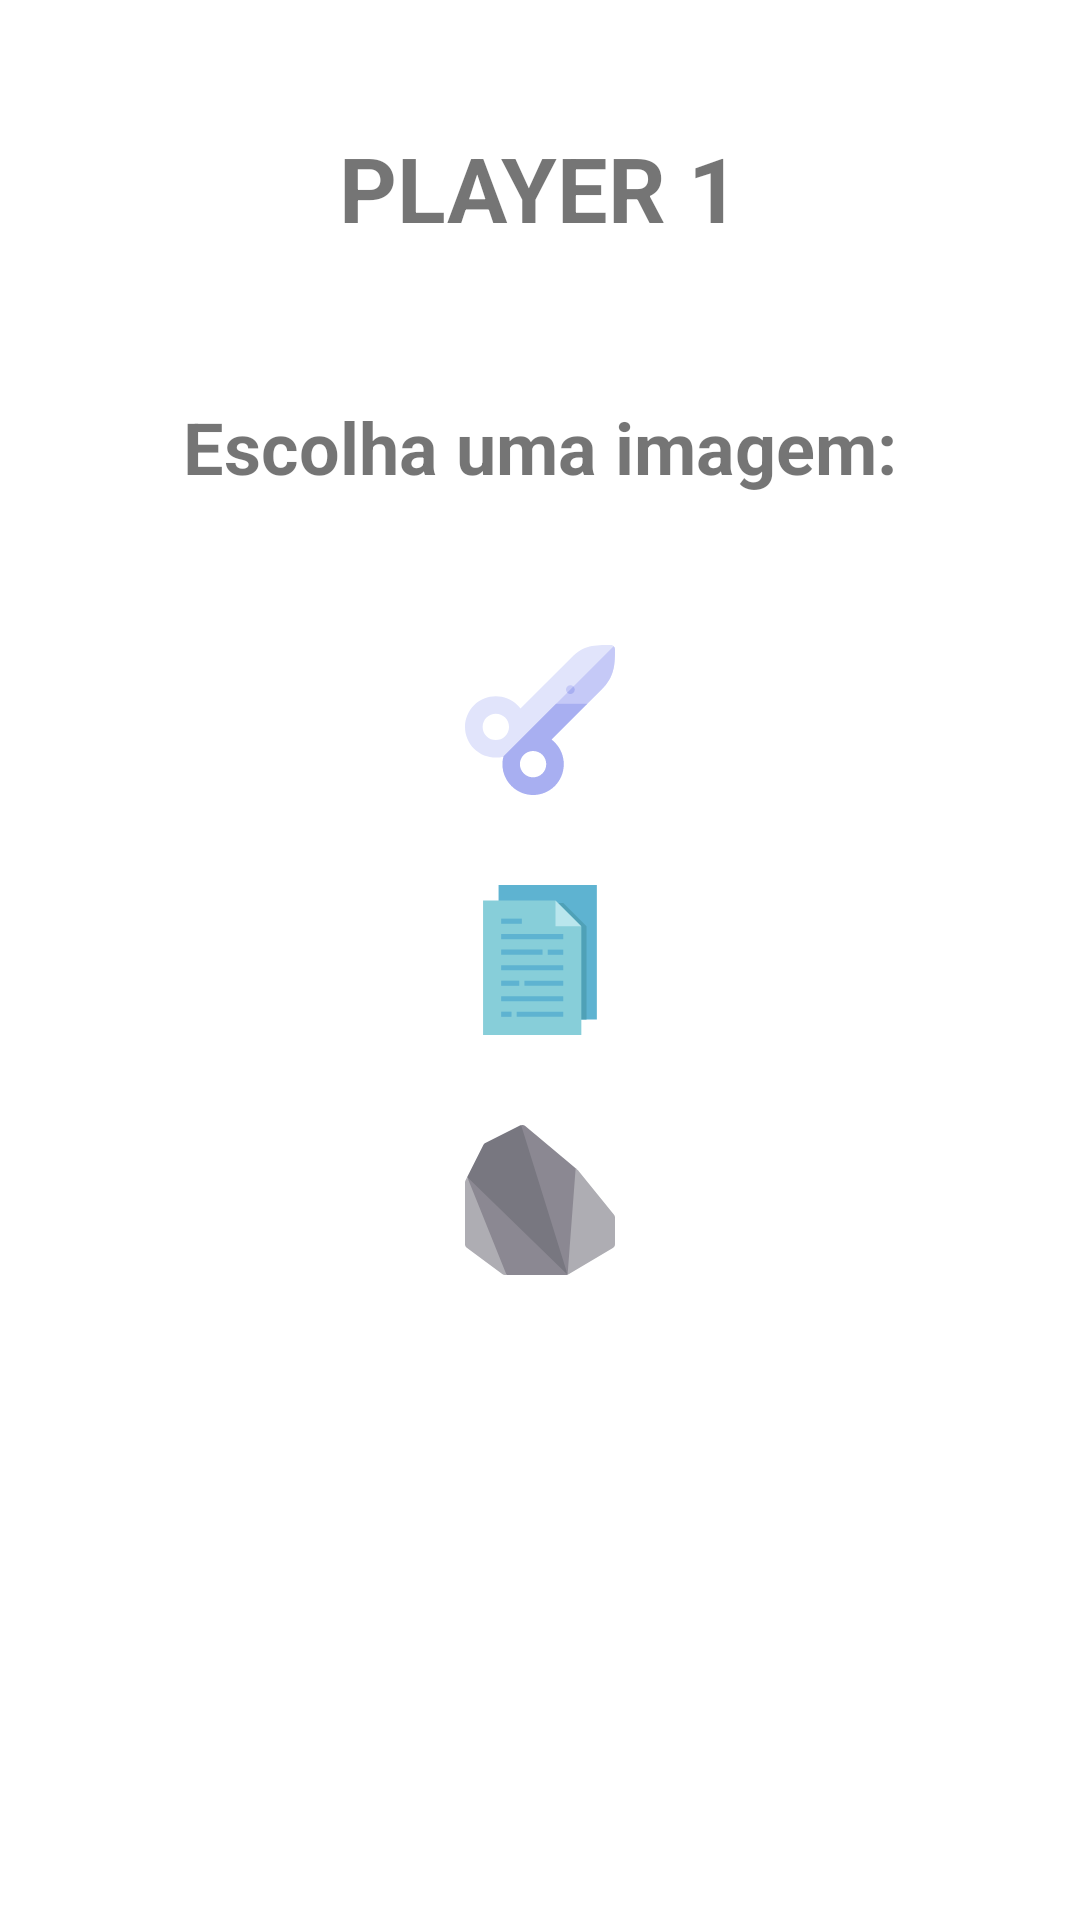

Named icons in this screenshot (1080*1920) and their bounding boxes, [left=x1, top=y1, right=x2, bottom=y2]:
document: [left=483, top=885, right=597, bottom=1035]
scissors: [left=465, top=645, right=615, bottom=795]
stone: [left=465, top=1125, right=615, bottom=1275]
